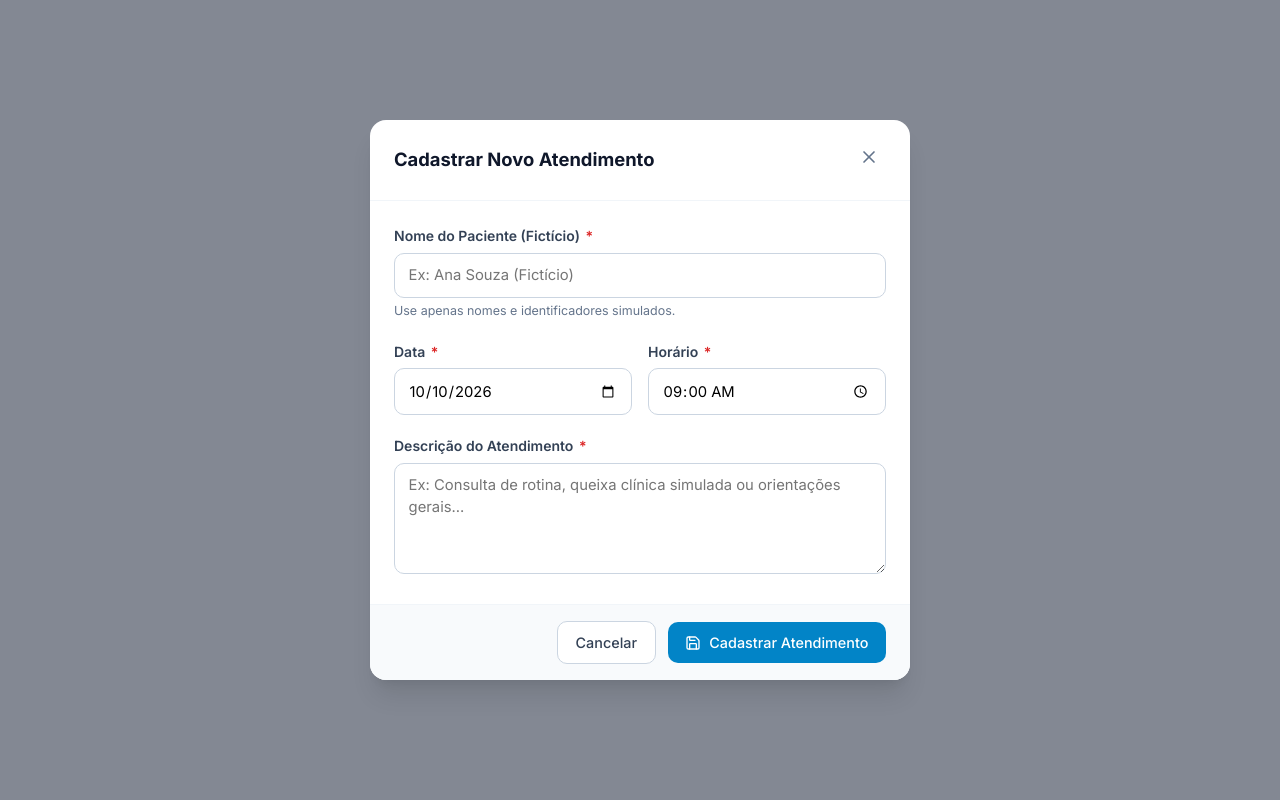
Gestão de Atendimentos de Saúde - Testes Funcionais › Validações do Formulário de Atendimento › valida campos obrigatórios e impede cadastro inválido
This screenshot has width=1280, height=800.
Click the button "Cadastrar Atendimento": point(777, 643) x1=668 y1=622 x2=886 y2=663
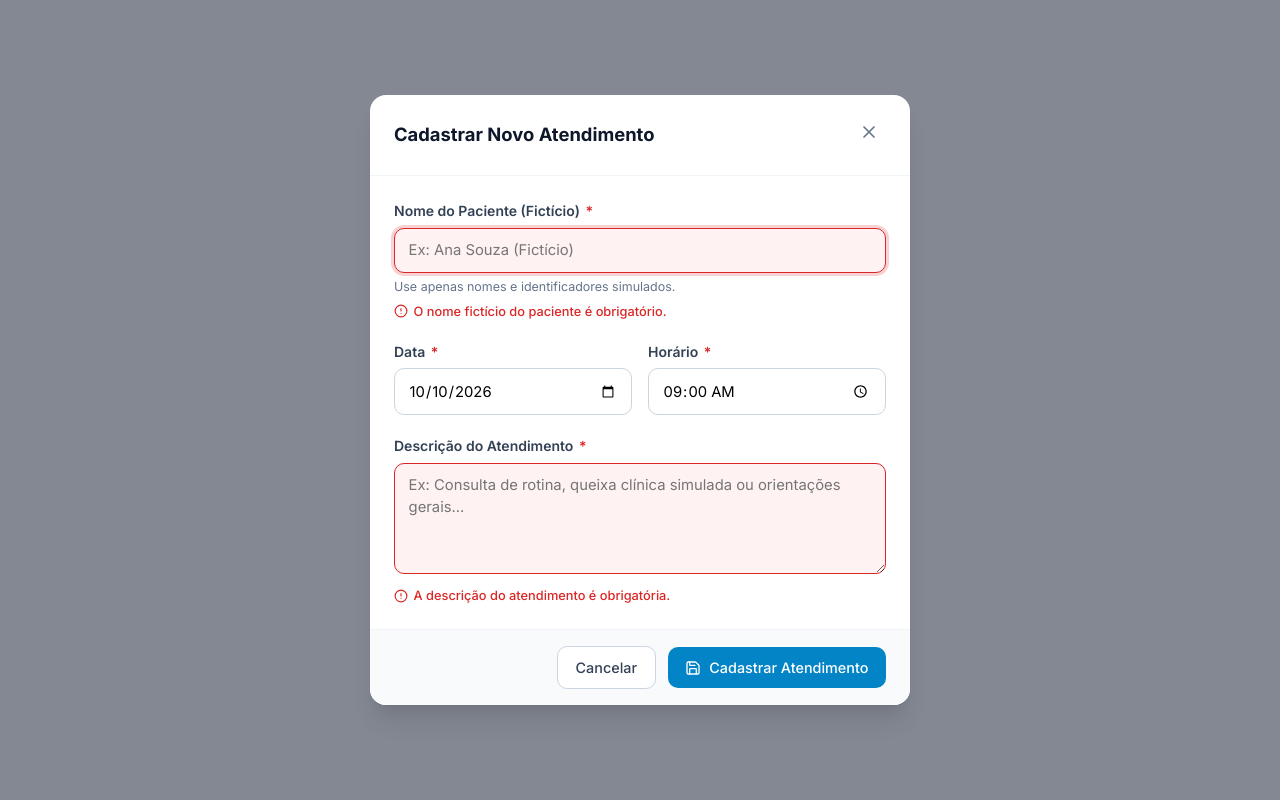
Expected: the text "O nome fictício do paciente é obrigatório." is shown, x1=414 y1=302 x2=667 y2=321
Expected: the text "A descrição do atendimento é obrigatória." is shown, x1=414 y1=586 x2=670 y2=605
